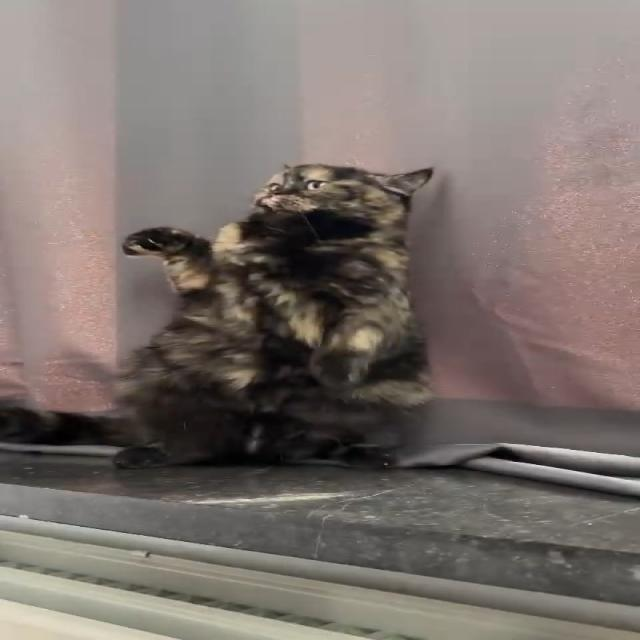authorized: (1, 162, 436, 470)
